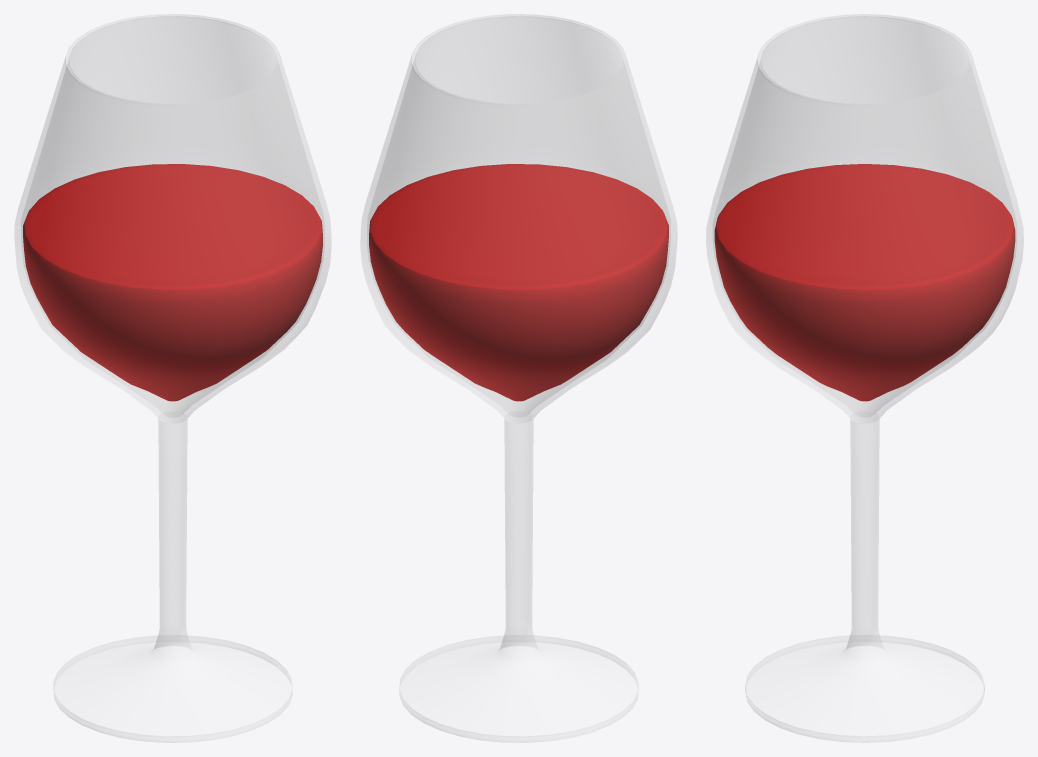
3 renders of one model, left to right at view 1: azimuth 30°, elevation 25°; view 2: azimuth 150°, elevation 25°; view 3: azimuth 270°, elevation 25°, orthographic.
Parts seen in each view (by area): view 1: WineGlassMerged; view 2: WineGlassMerged; view 3: WineGlassMerged.
Part boxes in pixels (box(x1,y1,x2,y2)): WineGlassMerged: box(14, 14, 331, 742); WineGlassMerged: box(360, 14, 677, 742); WineGlassMerged: box(706, 14, 1023, 742).
Size of the model in its own units: 0.0836 by 0.1836 by 0.0836.
1 material, 1 textured.
